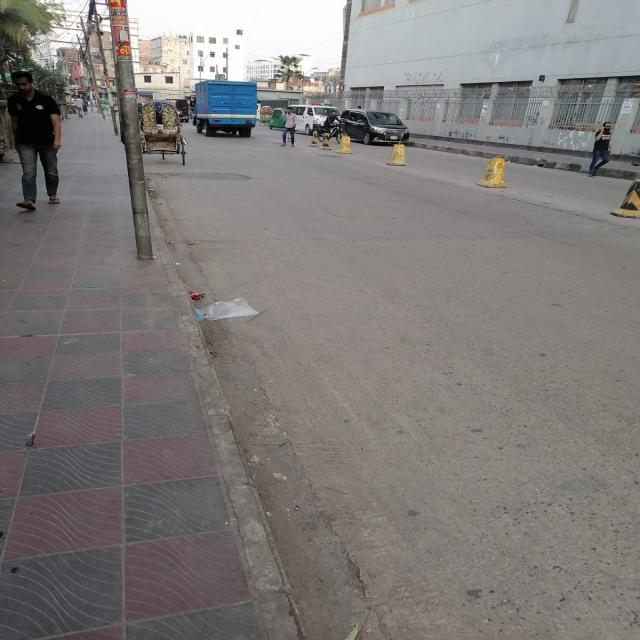person: (282, 107, 296, 147)
